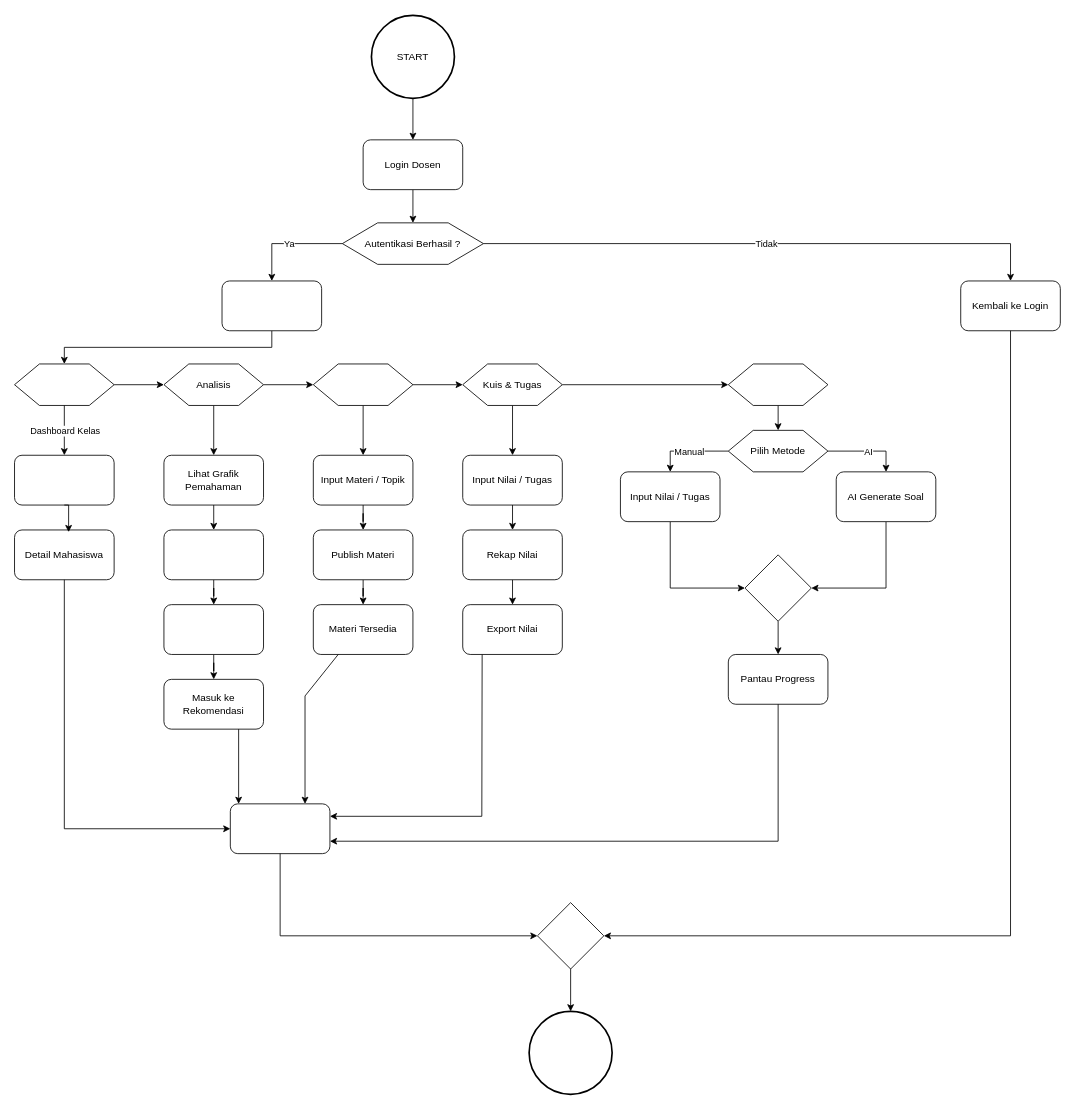
This 1075x1109 diagram has some shape labels left out. The shapes that lost their labels are listed below. From the top down, each one's centre as x and y in pixels, then its label:
point (271, 305): Dahboard Dosen
point (64, 384): Pilih Menu
point (362, 384): Materi & Topik
point (777, 384): Rekomendasi
point (64, 479): Lihat Data Mahasiswa
point (213, 554): Identifikasi Mahasiswa Kurang
point (213, 629): Lihat Detail Analisis
point (279, 828): Logout
point (570, 1052): STOP
